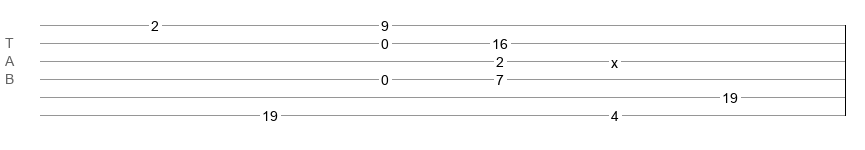0: (381, 72, 389, 82), (381, 36, 389, 46)
16: (492, 36, 508, 46)
19: (262, 108, 278, 118), (722, 90, 738, 100)
2: (151, 18, 159, 28), (496, 54, 504, 64)
4: (611, 108, 619, 118)
7: (496, 72, 504, 82)
9: (381, 18, 389, 28)
x: (611, 55, 618, 63)
